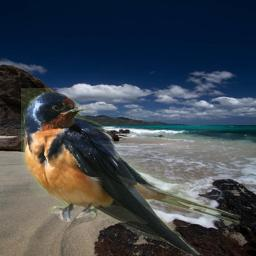Swallow: (21, 88, 241, 255)
